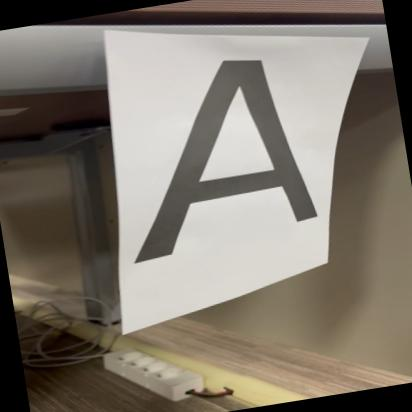seat: (110, 43, 324, 268)
